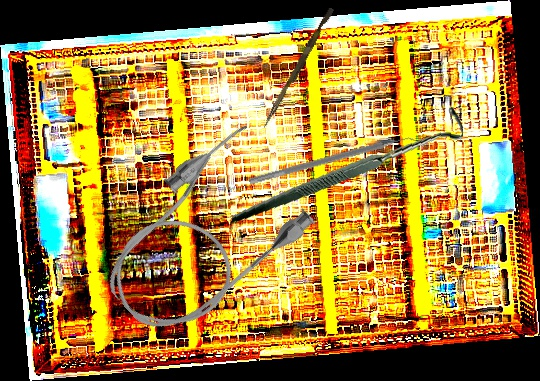Cannula: (78, 114, 327, 357)
Hook Surgical: (231, 83, 466, 247)
Pusher: (261, 5, 335, 132)
Spatula Surgical: (248, 130, 419, 193)
